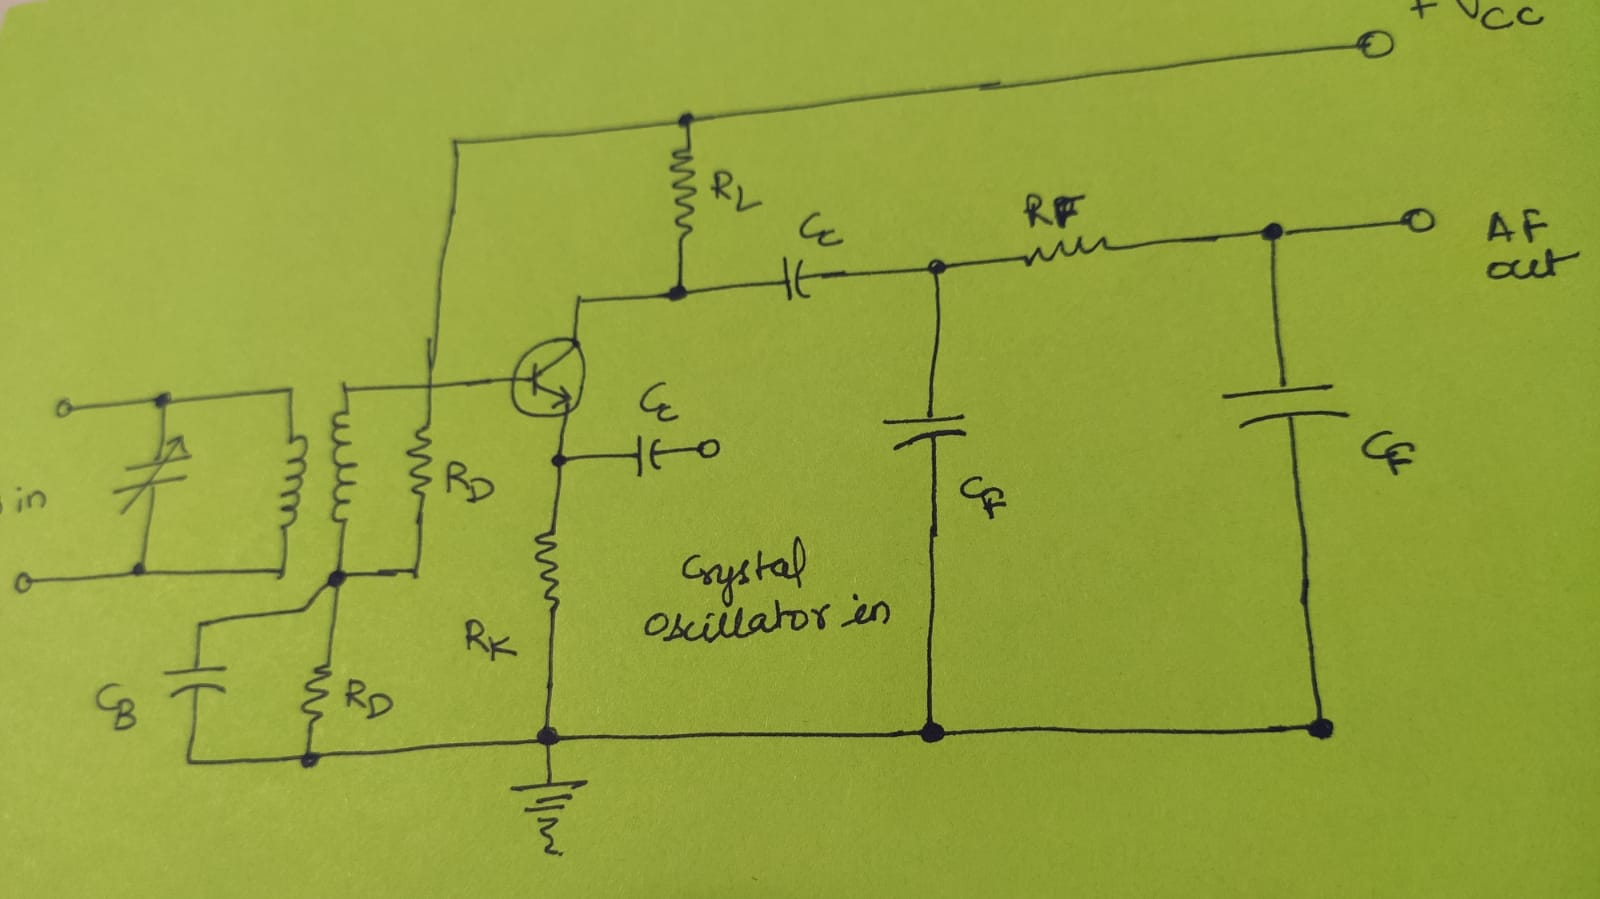capacitor.unpolarized: (1223, 380, 1345, 431), (114, 435, 190, 512), (879, 410, 967, 449), (163, 661, 227, 700), (775, 256, 813, 300), (630, 433, 663, 476)
gnd: (511, 777, 587, 857)
junction: (1302, 710, 1340, 748), (912, 715, 952, 744), (318, 564, 354, 593), (662, 279, 699, 308), (530, 722, 567, 750), (1257, 215, 1286, 247), (146, 386, 177, 412), (669, 108, 702, 131), (924, 256, 952, 282), (297, 744, 324, 769), (125, 556, 152, 581), (548, 451, 571, 471), (273, 562, 291, 580), (447, 134, 466, 153), (191, 617, 210, 634), (181, 753, 198, 768), (295, 603, 310, 620), (408, 564, 423, 579), (423, 380, 438, 395), (573, 293, 588, 308), (284, 384, 297, 397), (340, 384, 353, 397)
resistor: (1018, 231, 1118, 265), (667, 138, 699, 240), (401, 418, 436, 502), (533, 522, 564, 604), (299, 658, 335, 722)
terminal: (1353, 25, 1397, 63), (1393, 203, 1437, 241), (11, 565, 47, 597), (690, 432, 724, 462), (53, 392, 86, 421)
text: (637, 534, 896, 645), (1481, 206, 1582, 282), (1359, 428, 1418, 479), (462, 615, 522, 664), (1452, 1, 1549, 31), (710, 167, 767, 214), (1020, 189, 1088, 229), (958, 473, 1010, 522), (444, 458, 497, 507), (343, 675, 397, 722), (93, 679, 138, 732), (795, 209, 851, 249), (638, 379, 681, 423), (12, 482, 52, 517)
transformer: (274, 402, 354, 533)
transistor: (503, 333, 587, 422)
